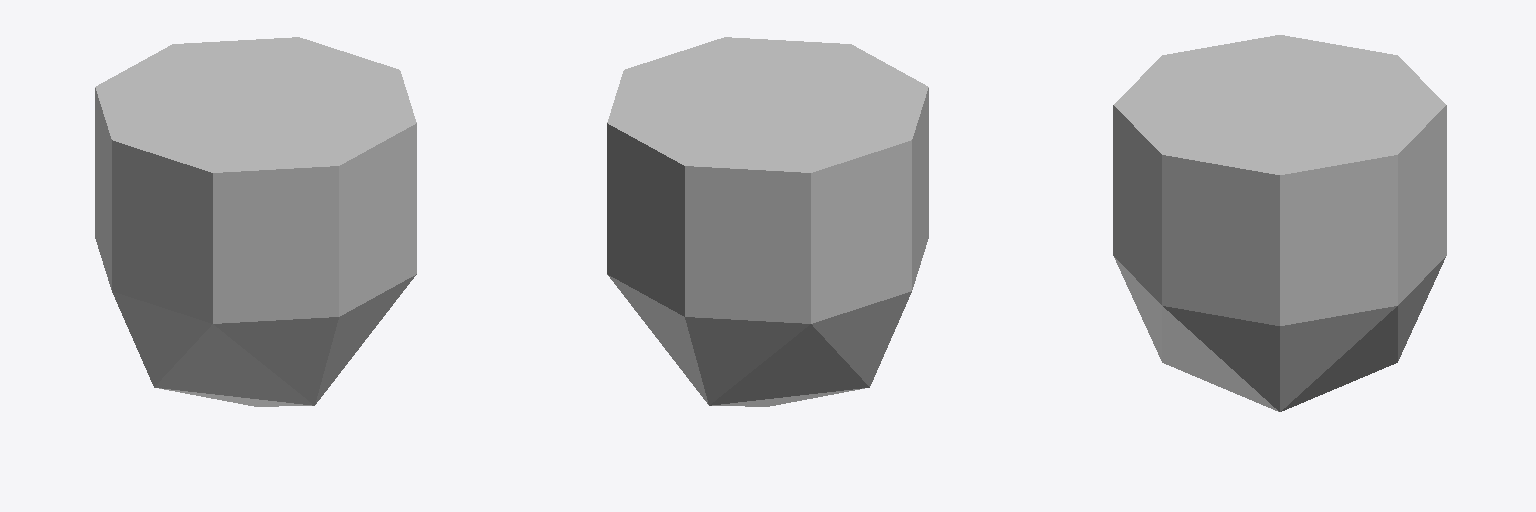
Rendered from qlampwall.obj.
3 renders of one model, left to right at view 1: azimuth 30°, elevation 25°; view 2: azimuth 150°, elevation 25°; view 3: azimuth 270°, elevation 25°, orthographic.
Parts seen in each view (by area): view 1: qlampwall; view 2: qlampwall; view 3: qlampwall.
Boxes of the visible parts, x1,y1,x2,y2 form: qlampwall: [95, 37, 416, 406]; qlampwall: [607, 37, 928, 406]; qlampwall: [1113, 35, 1446, 411].
Size of the model in its own units: 1 by 1 by 1.